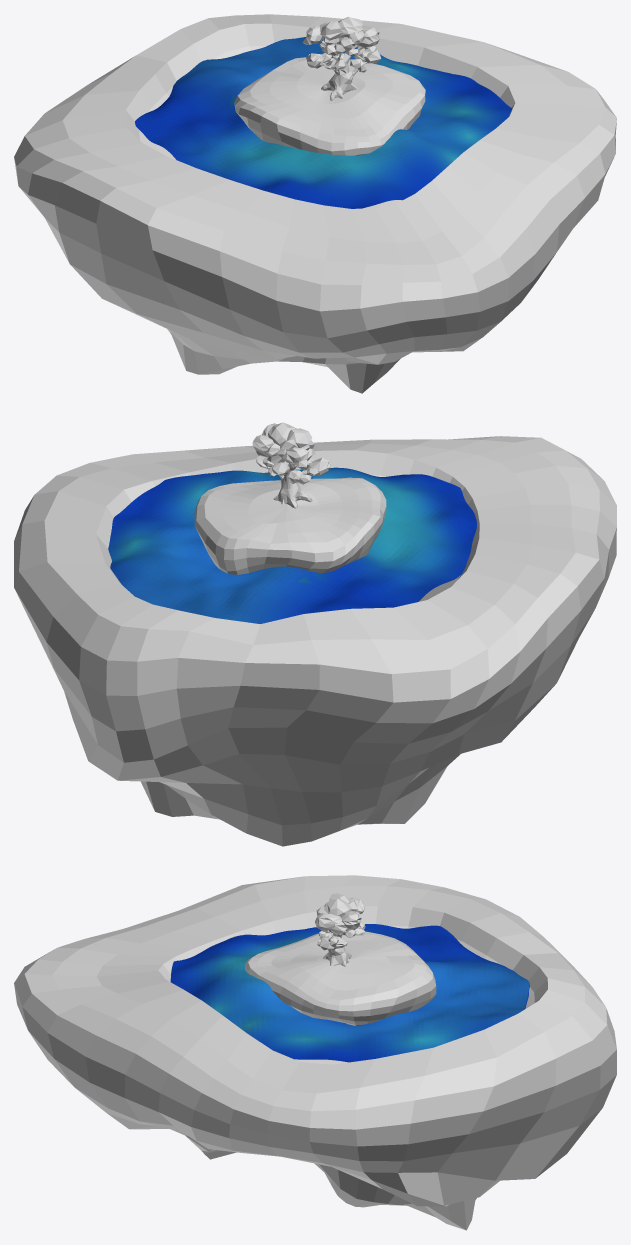
The model's file is fattree.glb.
The picture shows the model from 3 angles, top to bottom: view 1: azimuth 30°, elevation 25°; view 2: azimuth 150°, elevation 25°; view 3: azimuth 270°, elevation 25°; orthographic projection. The views are drawn at different scales.
Visible parts, largest first — view 1: Sphere.001, Plane.002, Sphere.003, fattree; view 2: Sphere.001, Plane.002, Sphere.003, fattree; view 3: Sphere.001, Plane.002, Sphere.003, fattree.
Part boxes in pixels (<box>): Sphere.001: <box>14,14,616,393</box>; Plane.002: <box>135,37,511,208</box>; Sphere.003: <box>234,57,425,155</box>; fattree: <box>302,17,381,100</box>; Sphere.001: <box>14,436,616,846</box>; Plane.002: <box>108,467,476,623</box>; Sphere.003: <box>194,477,386,574</box>; fattree: <box>252,422,330,508</box>; Sphere.001: <box>14,875,616,1230</box>; Plane.002: <box>170,924,529,1062</box>; Sphere.003: <box>245,931,436,1025</box>; fattree: <box>315,893,365,966</box>.
Bounding box in the file's own units: 103 × 65.45 × 114.
Materials: 2 (1 with a texture image).
